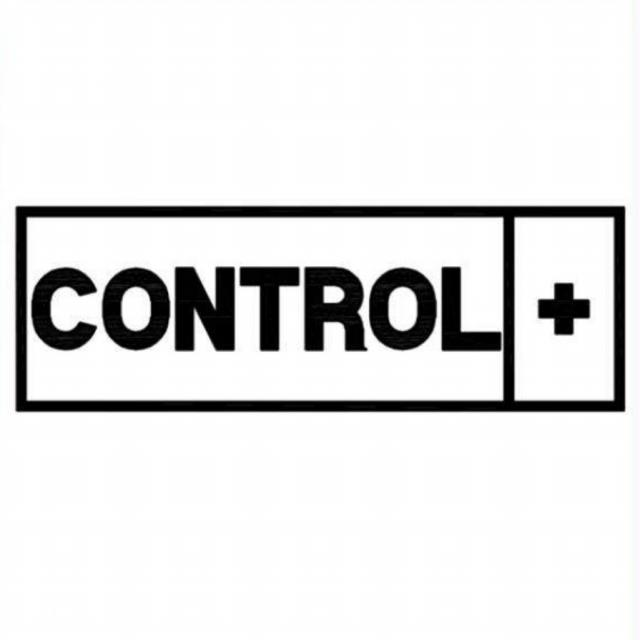Positive Control: (18, 208, 626, 413)
